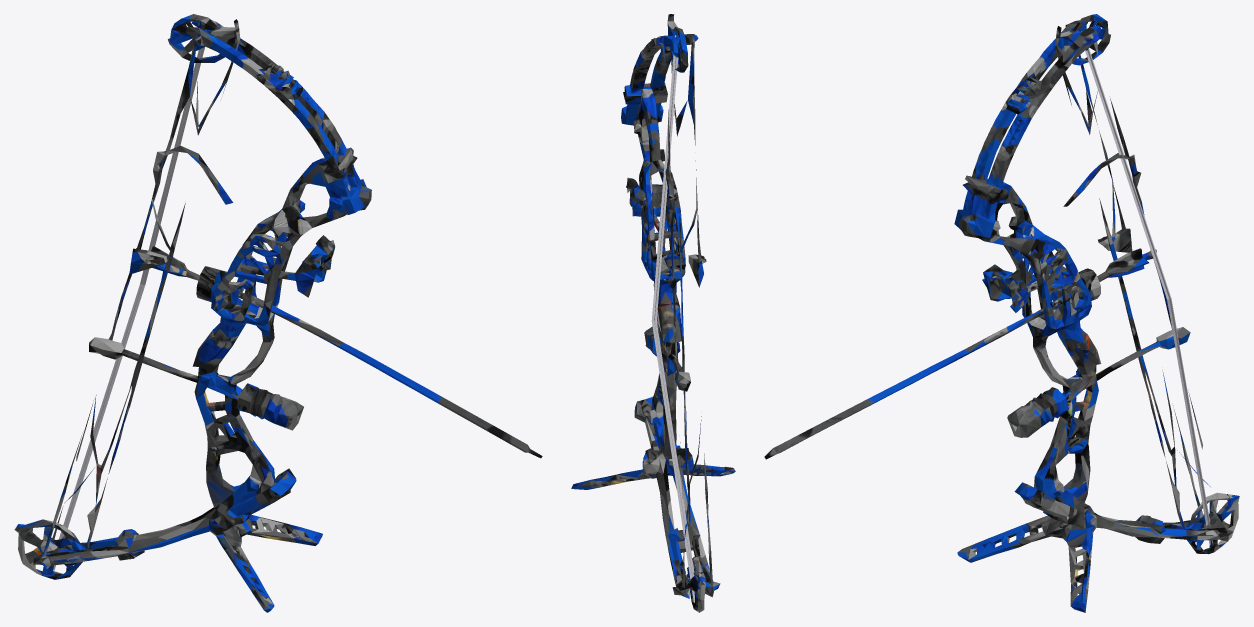
The model's file is compound_bow_pulling_0.obj.
3 renders of one model, left to right at view 1: azimuth 30°, elevation 25°; view 2: azimuth 150°, elevation 25°; view 3: azimuth 270°, elevation 25°, orthographic. The views are drawn at different scales.
Visible parts, largest first — view 1: compound_bow; view 2: compound_bow; view 3: compound_bow.
Boxes of the visible parts, x1,y1,x2,y2 form: compound_bow: (14,14,542,612); compound_bow: (571,14,735,612); compound_bow: (764,14,1239,612).
Size of the model in its own units: 0.4958 by 0.9784 by 0.7304.
